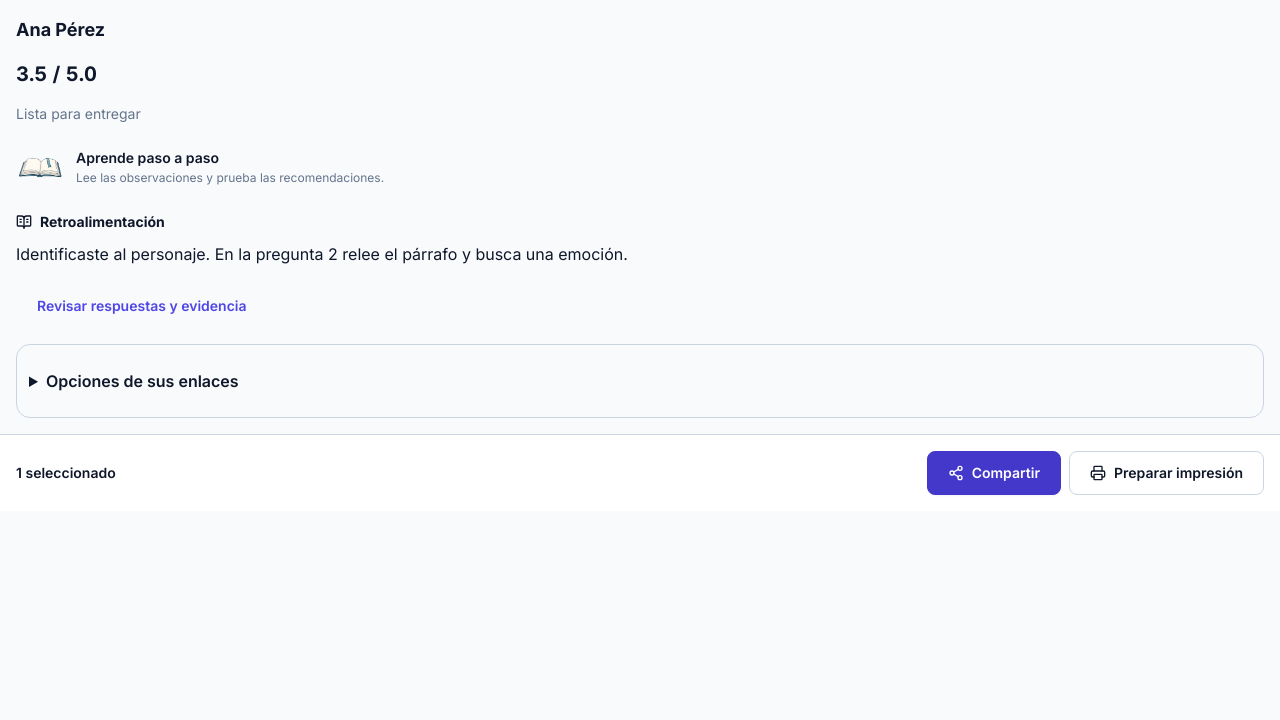
Test case: retroalimentaciones por evaluación › 135 separa la preparación pendiente de los cambios reales sin guardar
The width and height of the screenshot is (1280, 720).
Click the button "Compartir": [994, 473] box [927, 451, 1061, 495]
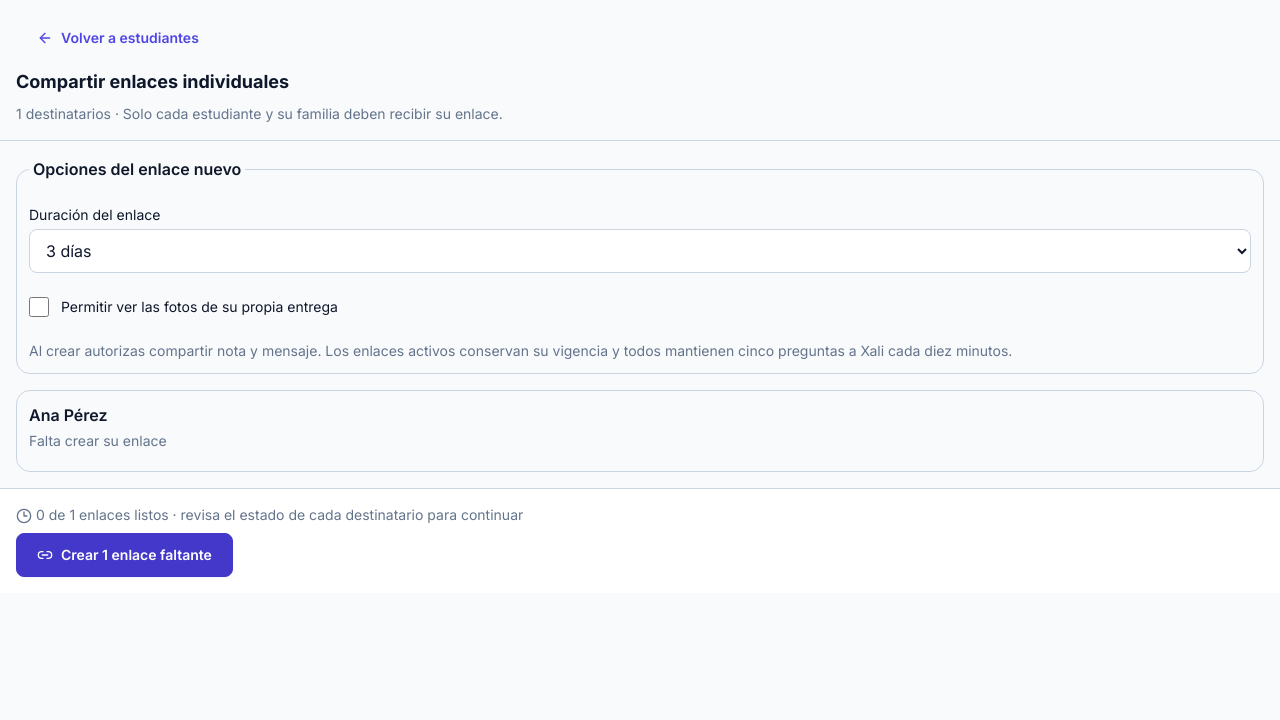
Click the button "Crear 1 enlace faltante": [124, 555] box [16, 533, 233, 577]
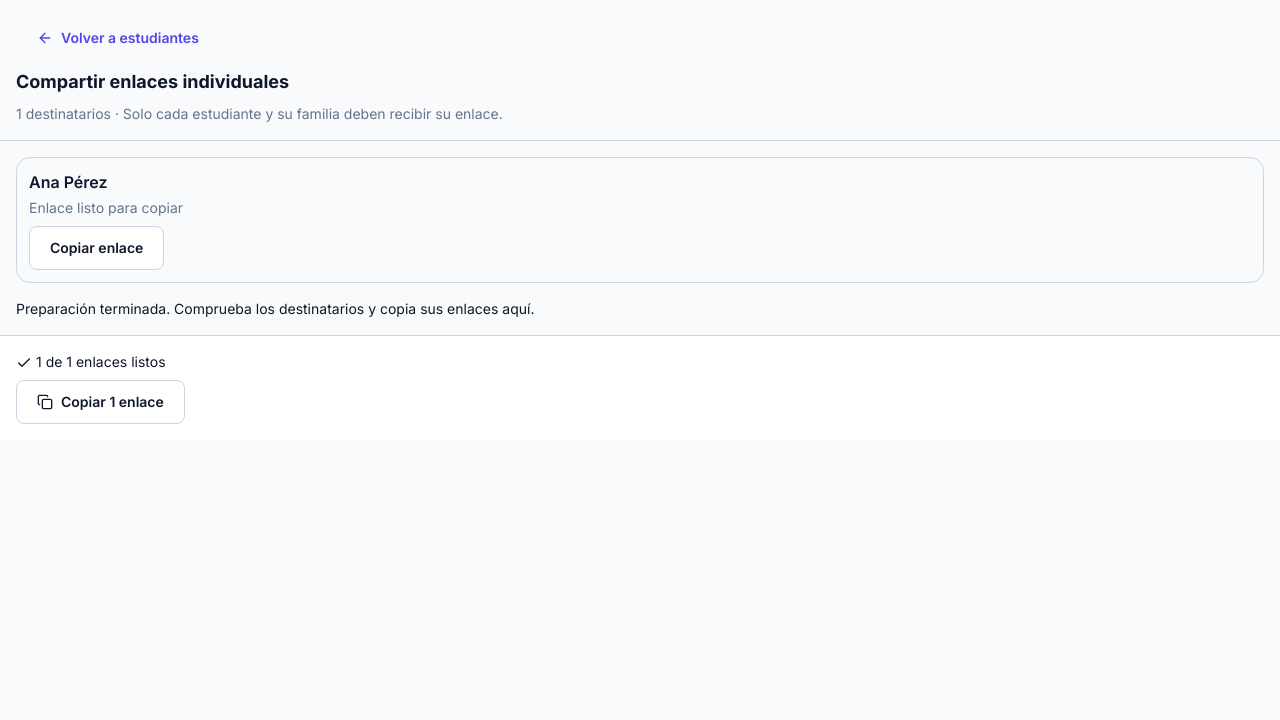
Now the button "Copiar 1 enlace" is shown, box [16, 380, 185, 424]
